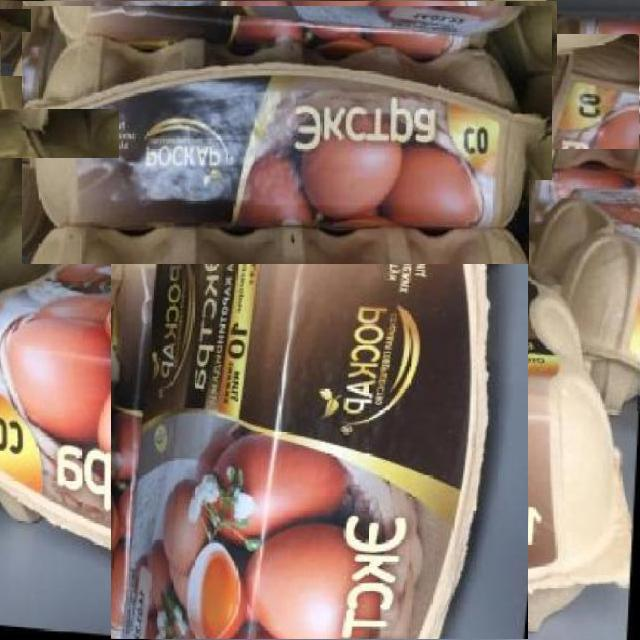Egg: (111, 111, 528, 640), (22, 5, 552, 264), (0, 0, 557, 76), (530, 181, 639, 411), (491, 35, 640, 149), (0, 108, 119, 158), (0, 8, 31, 32)
